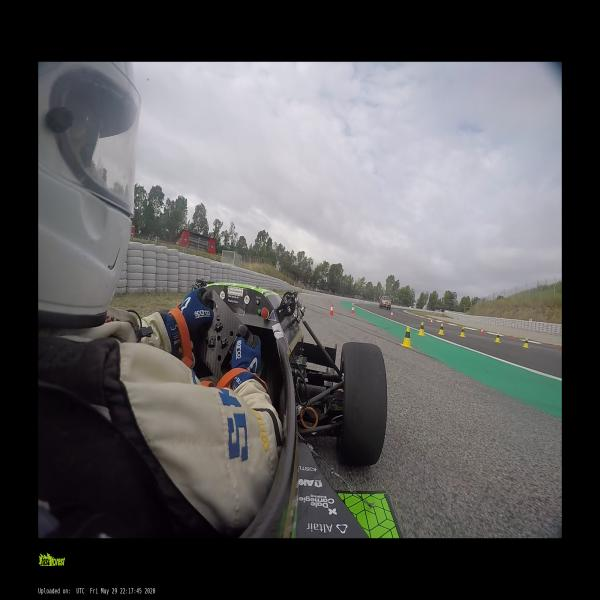orange_cone: (328, 305, 334, 316), (429, 318, 433, 326), (480, 328, 484, 336), (390, 310, 393, 318), (351, 307, 354, 314), (560, 340, 561, 349)
yellow_cone: (400, 326, 413, 347), (418, 322, 425, 335), (459, 326, 466, 338), (438, 323, 445, 335), (522, 338, 530, 348), (494, 332, 501, 342)
